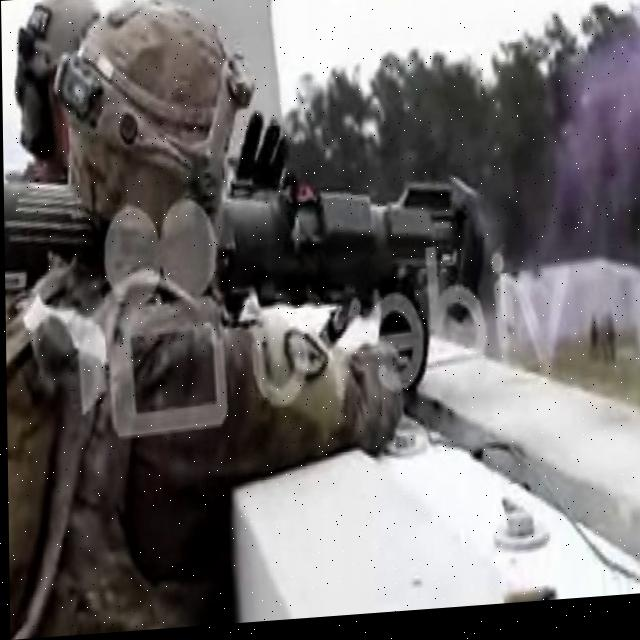rocket: (2, 119, 485, 365)
